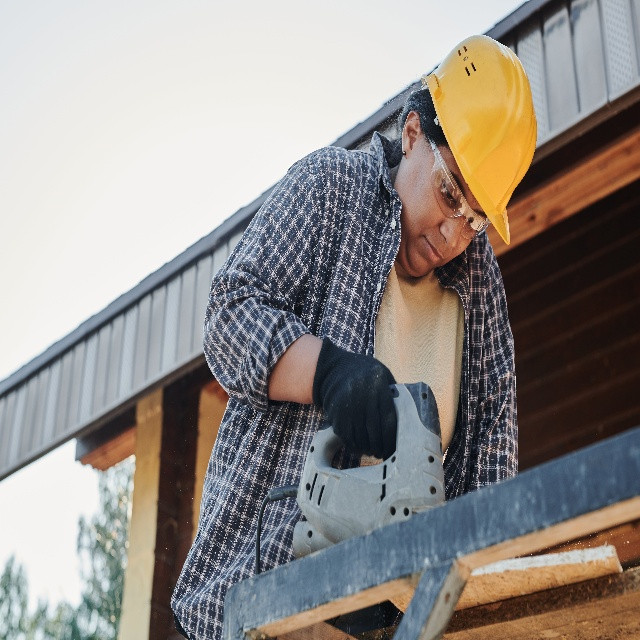Gafas: (426, 135, 491, 242)
Guantes: (312, 336, 398, 461)
